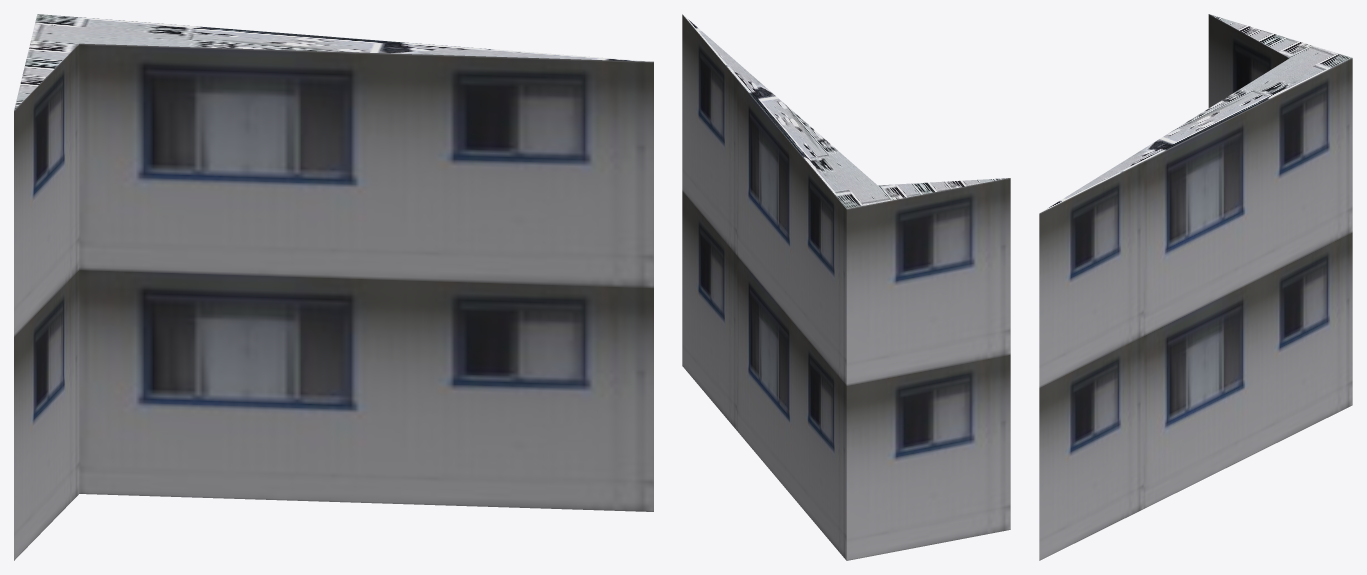
Rendered from ResTex__3266.fbx.
3 renders of one model, left to right at view 1: azimuth 30°, elevation 25°; view 2: azimuth 150°, elevation 25°; view 3: azimuth 270°, elevation 25°, orthographic. The views are drawn at different scales.
Parts seen in each view (by area): view 1: CityEngineMaterial_9_m, CityEngineMaterial_8_m; view 2: CityEngineMaterial_9_m, CityEngineMaterial_8_m; view 3: CityEngineMaterial_9_m, CityEngineMaterial_8_m.
Boxes of the visible parts, x1,y1,x2,y2 form: CityEngineMaterial_9_m: (14,43,653,560); CityEngineMaterial_8_m: (14,14,649,110); CityEngineMaterial_9_m: (682,14,1010,560); CityEngineMaterial_8_m: (683,15,1008,208); CityEngineMaterial_9_m: (1039,14,1352,560); CityEngineMaterial_8_m: (1041,14,1352,212).
Size of the model in its own units: 7.39 by 6 by 4.91.
Materials: 2 (2 with a texture image).
